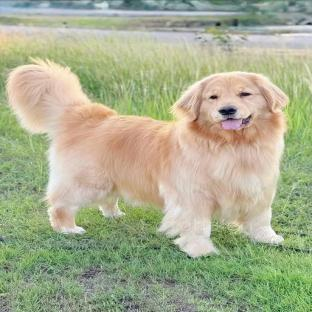Animal: (6, 59, 288, 257)
